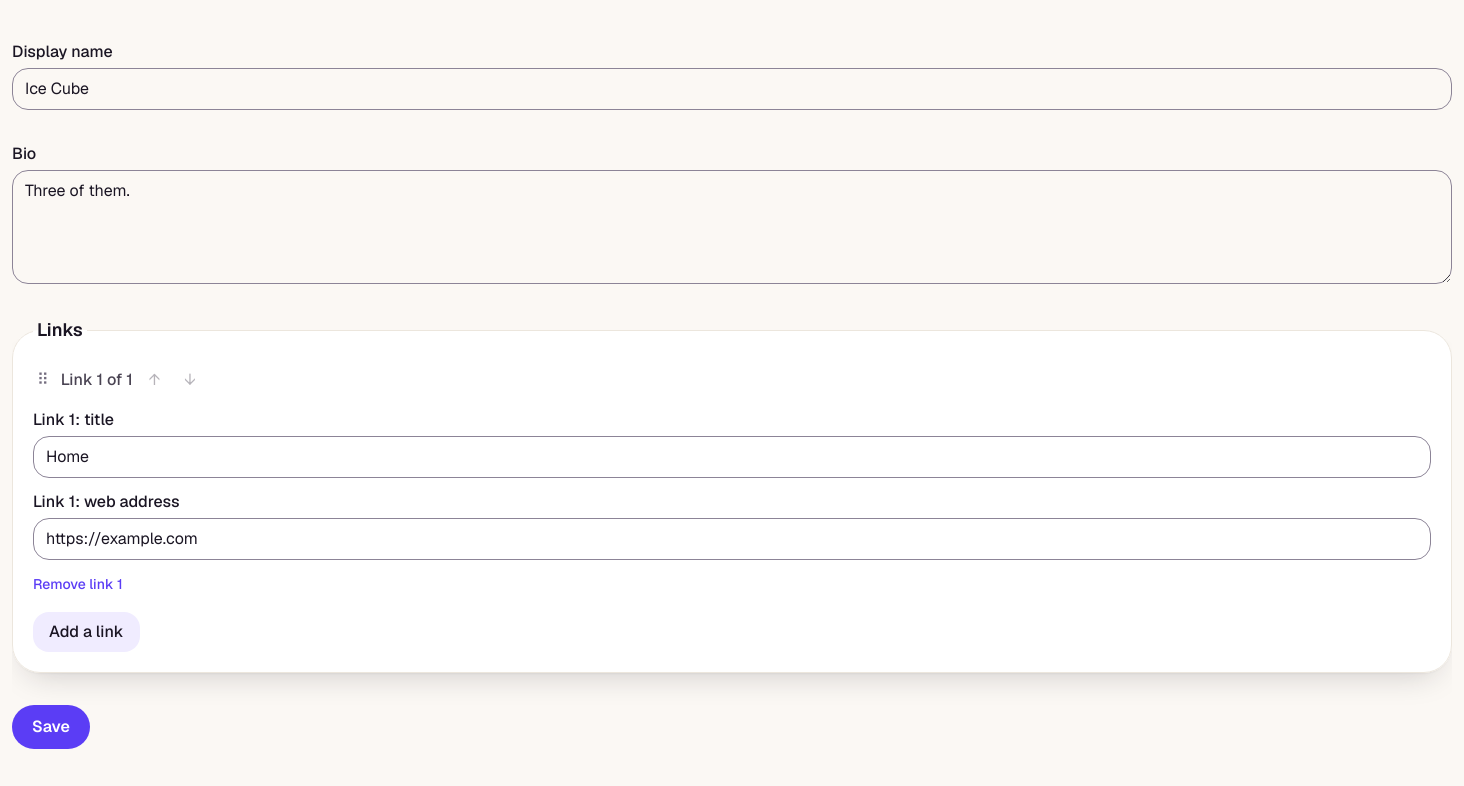
it: the Profile form, when the save is rejected › tells somebody whose session no longer owns this Handle, without losing their work
The width and height of the screenshot is (1464, 786).
Click the button "Save".
click(51, 727)  # box [12, 705, 90, 749]
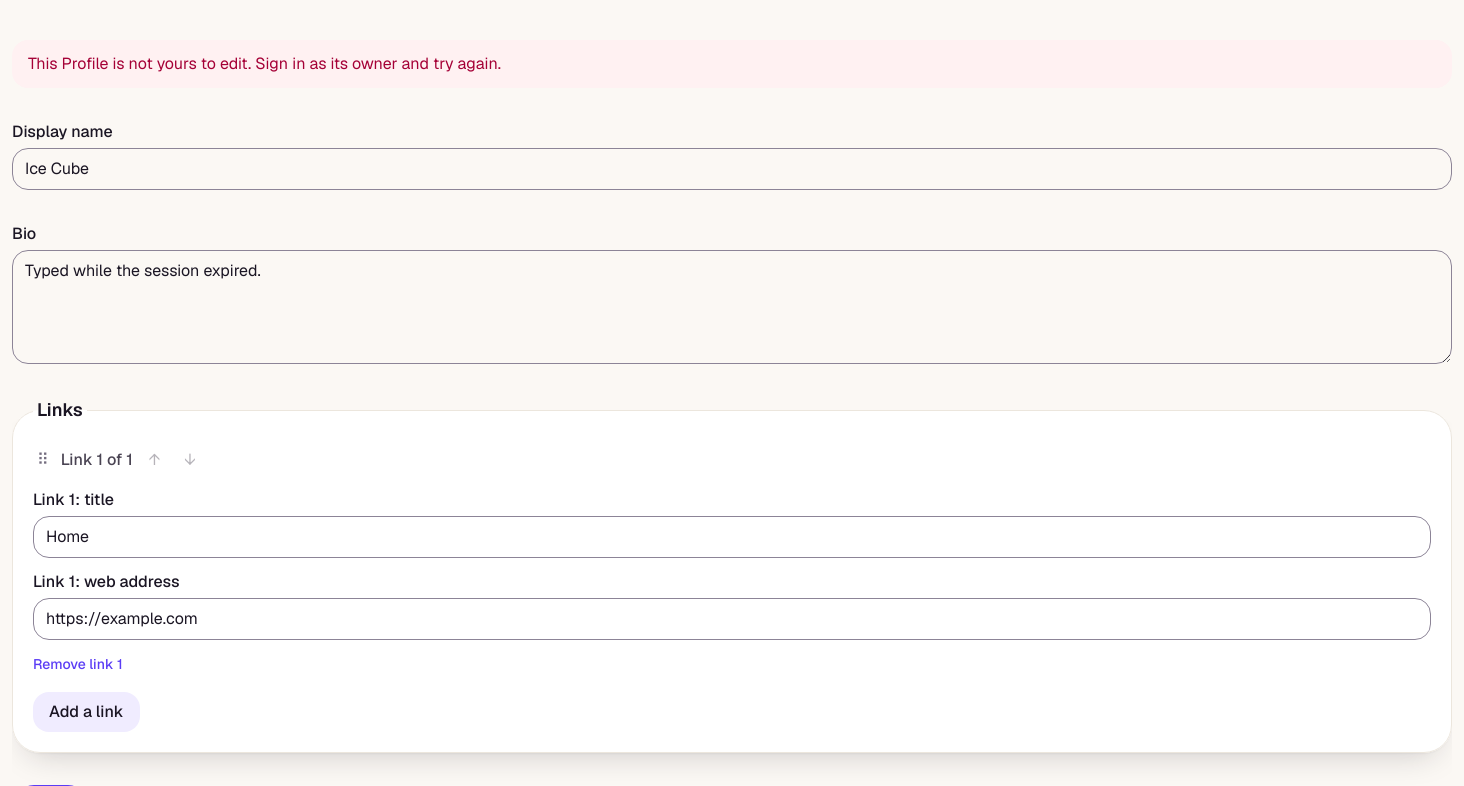
Expected: the message reads "This Profile is not yours to edit. Sign in as its owner and try again.", [28, 53, 501, 74]
Expected: the text box labelled "Bio" holds "Typed while the session expired.", [12, 250, 1452, 364]
